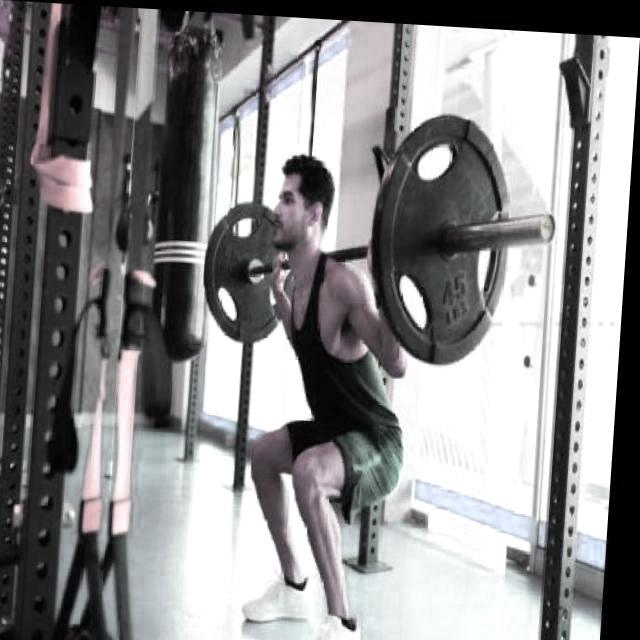barbell: (370, 101, 567, 367)
